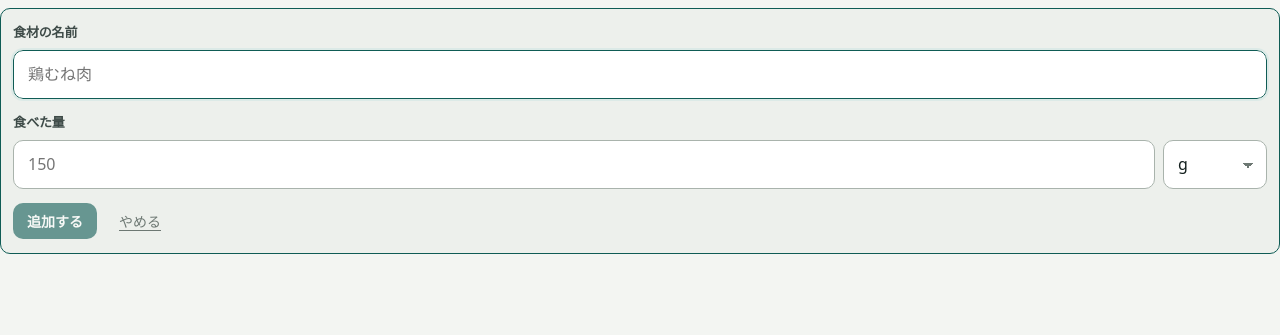
Test case: 契約者が使うとき（canEditNutrition = false） › ★ マスタにある食材の栄養値は、入力欄そのものが出ない
Type "白米" into the field labelled "食材の名前" at (640, 75), box [13, 50, 1267, 99]
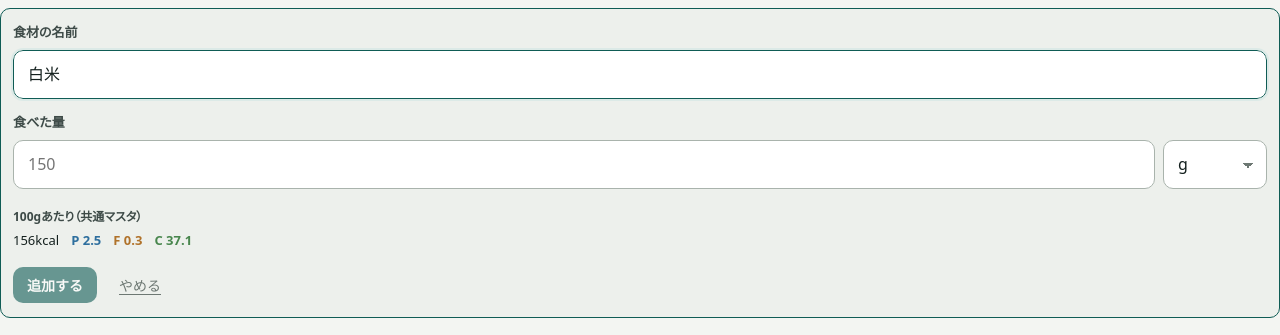
Expected: the text "100gあたり（共通マスタ）" is shown, [13, 208, 142, 225]
